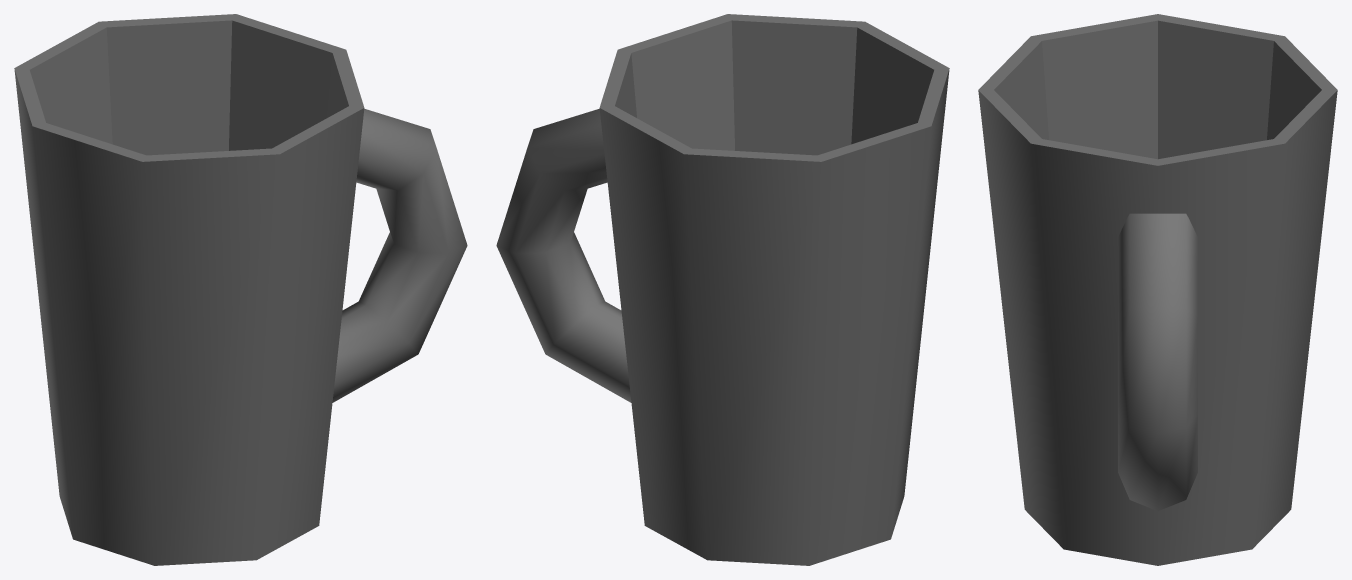
File: Itr_Obj_Cup2_05.FBX
3 views of the same model, side by side, from view 1: azimuth 30°, elevation 25°; view 2: azimuth 150°, elevation 25°; view 3: azimuth 270°, elevation 25° (orthographic).
Parts seen in each view (by area): view 1: Itr_Obj_Cup2_05; view 2: Itr_Obj_Cup2_05; view 3: Itr_Obj_Cup2_05.
Boxes of the visible parts, x1,y1,x2,y2 form: Itr_Obj_Cup2_05: [14, 14, 467, 565]; Itr_Obj_Cup2_05: [496, 14, 949, 565]; Itr_Obj_Cup2_05: [978, 14, 1337, 565].
Bounding box in the file's own units: 5.97 × 5.6 × 4.35.
